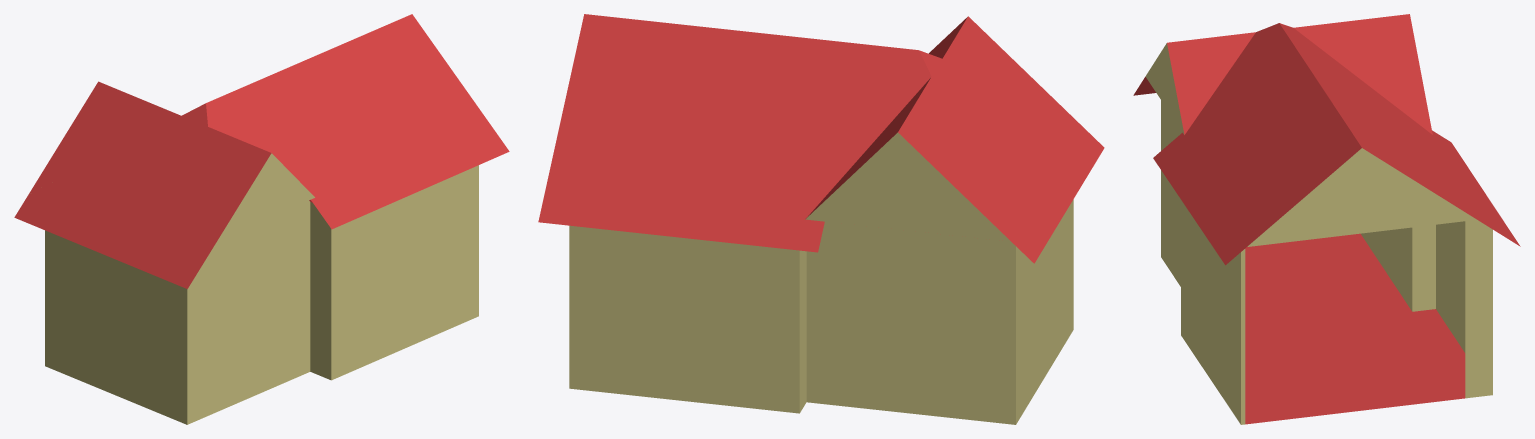
3 renders of one model, left to right at view 1: azimuth 30°, elevation 25°; view 2: azimuth 150°, elevation 25°; view 3: azimuth 270°, elevation 25°, orthographic. The views are drawn at different scales.
Bounding box in the file's own units: 22.51 × 17.16 × 13.31.
